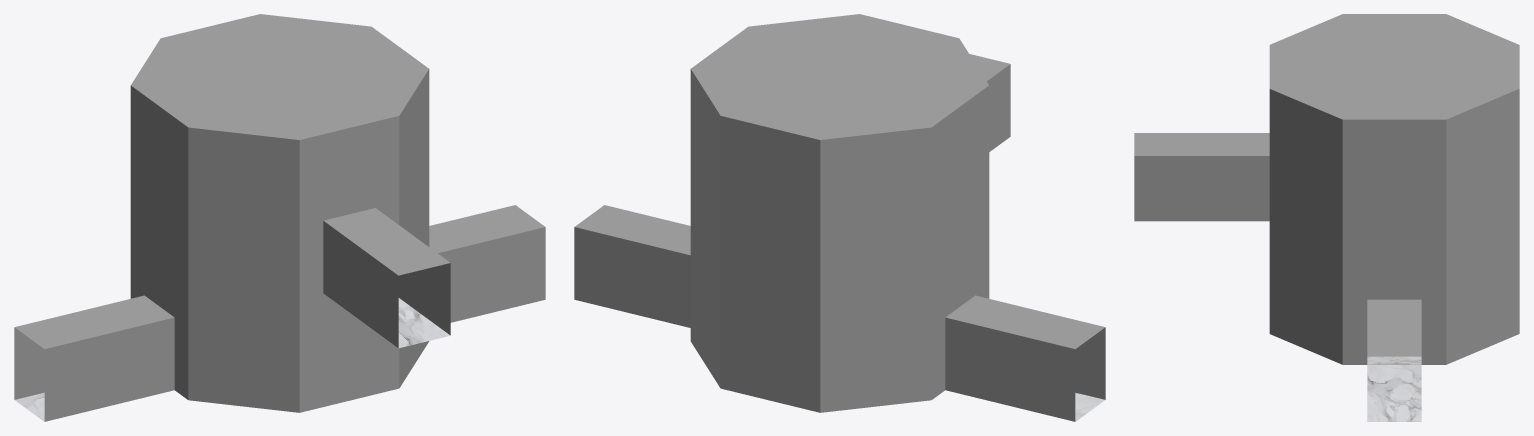
Rendered from cylinderJunction1.fbx.
The picture shows the model from 3 angles, left to right: view 1: azimuth 30°, elevation 25°; view 2: azimuth 150°, elevation 25°; view 3: azimuth 270°, elevation 25°; orthographic projection. The views are drawn at different scales.
Visible parts, largest first — view 1: pCube7; view 2: pCube7; view 3: pCube7.
Boxes of the visible parts, x1,y1,x2,y2 form: pCube7: (14,14,545,421); pCube7: (574,14,1105,421); pCube7: (1134,14,1519,421).
Size of the model in its own units: 57.66 by 30 by 42.69.
4 materials, 2 textured.
